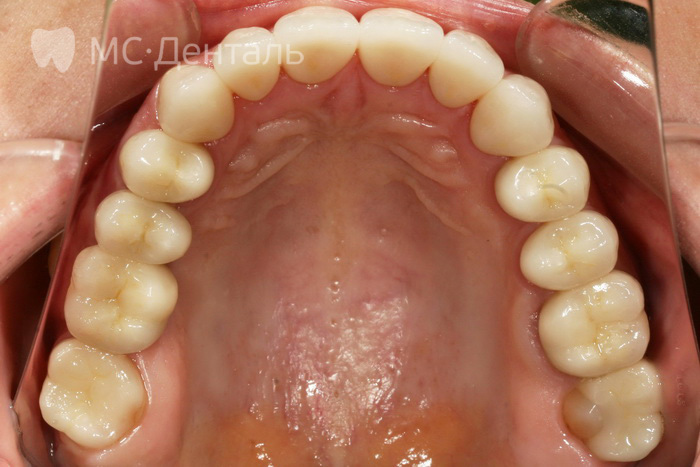UL1BC_healthy: (492, 150, 590, 216)
UL1M_healthy: (544, 285, 645, 372)
UL2BC_healthy: (518, 222, 622, 279)
UL2M_healthy: (566, 369, 668, 458)
ULCI_healthy: (359, 12, 437, 84)
ULC_healthy: (471, 78, 558, 152)
ULLI_healthy: (436, 36, 505, 102)
UR1BC_healthy: (125, 131, 212, 202)
UR1M_healthy: (69, 254, 178, 345)
UR2BC_healthy: (94, 193, 189, 265)
UR2M_healthy: (39, 347, 142, 439)
URCI_healthy: (274, 5, 360, 81)
URC_healthy: (153, 68, 235, 142)
